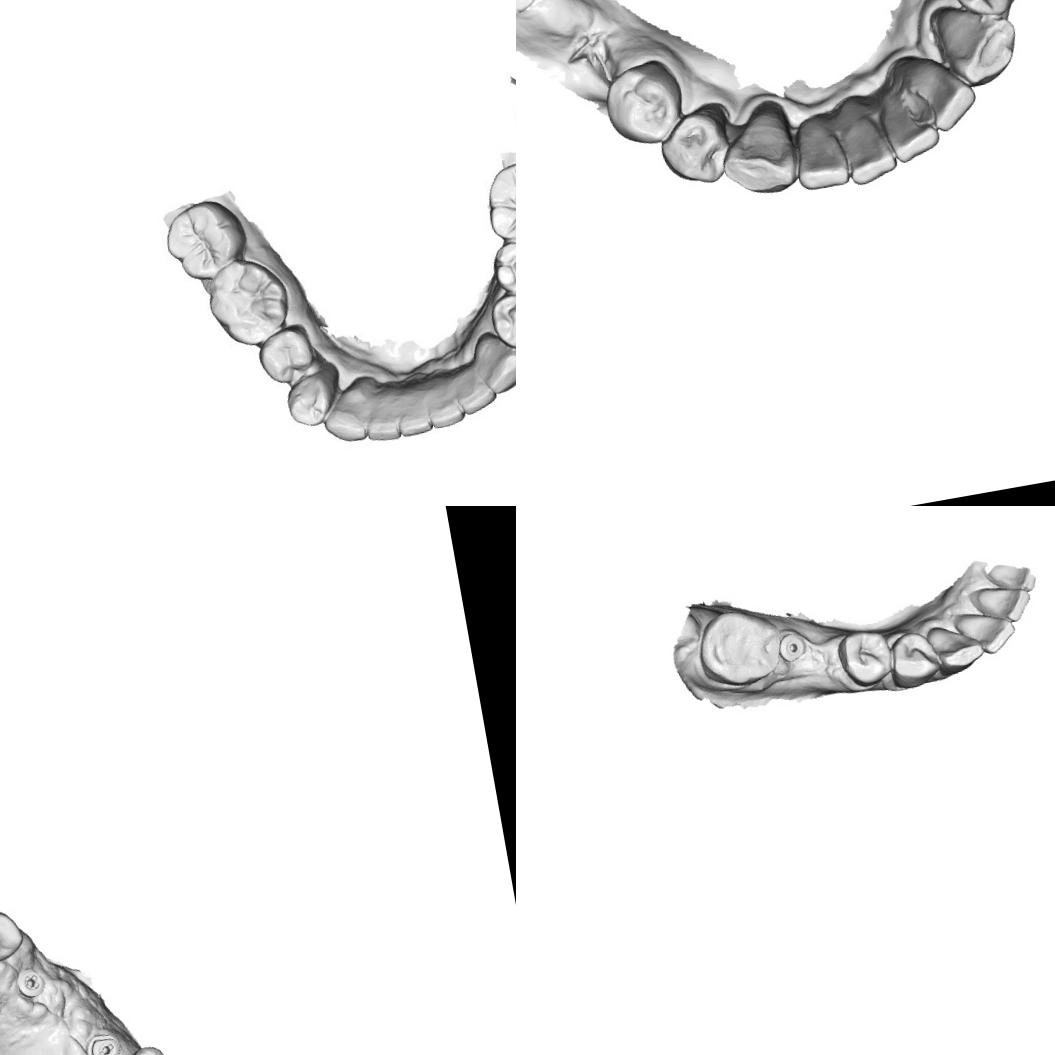canine: (712, 98, 808, 203), (931, 0, 1022, 91), (316, 379, 378, 446), (924, 616, 988, 676), (468, 324, 516, 398), (0, 900, 28, 971)
implant: (775, 629, 810, 664)
implant_minus: (82, 1031, 125, 1055)
implant_plus: (12, 963, 47, 1000)
incisor: (905, 54, 981, 138), (788, 118, 855, 194), (836, 110, 900, 188), (880, 91, 942, 165), (950, 603, 1019, 660), (357, 380, 404, 448), (449, 356, 499, 417), (974, 580, 1034, 628), (421, 369, 465, 431), (390, 377, 433, 440), (987, 559, 1038, 598)
molar: (200, 257, 295, 350), (158, 192, 253, 284), (690, 601, 786, 692), (478, 155, 516, 248)
premolar: (596, 56, 691, 151), (654, 106, 737, 193), (834, 624, 897, 692), (251, 323, 317, 386), (884, 624, 944, 692), (280, 368, 342, 430), (939, 0, 1030, 23), (487, 234, 516, 306), (486, 289, 516, 350)
